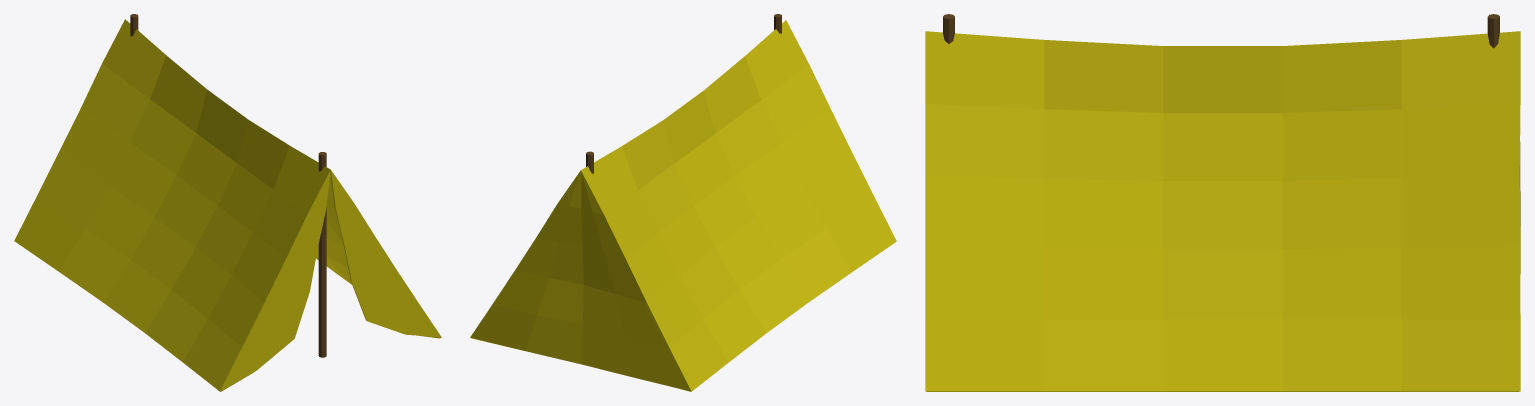
The model's file is Tent.fbx.
3 renders of one model, left to right at view 1: azimuth 30°, elevation 25°; view 2: azimuth 150°, elevation 25°; view 3: azimuth 270°, elevation 25°, orthographic. The views are drawn at different scales.
Parts seen in each view (by area): view 1: Tent; view 2: Tent; view 3: Tent.
Boxes of the visible parts, box(x1,y1,x2,y2) form: Tent: box(14, 14, 441, 391); Tent: box(470, 14, 896, 391); Tent: box(925, 14, 1520, 391).
Size of the model in its own units: 2.22 by 2 by 3.56.
